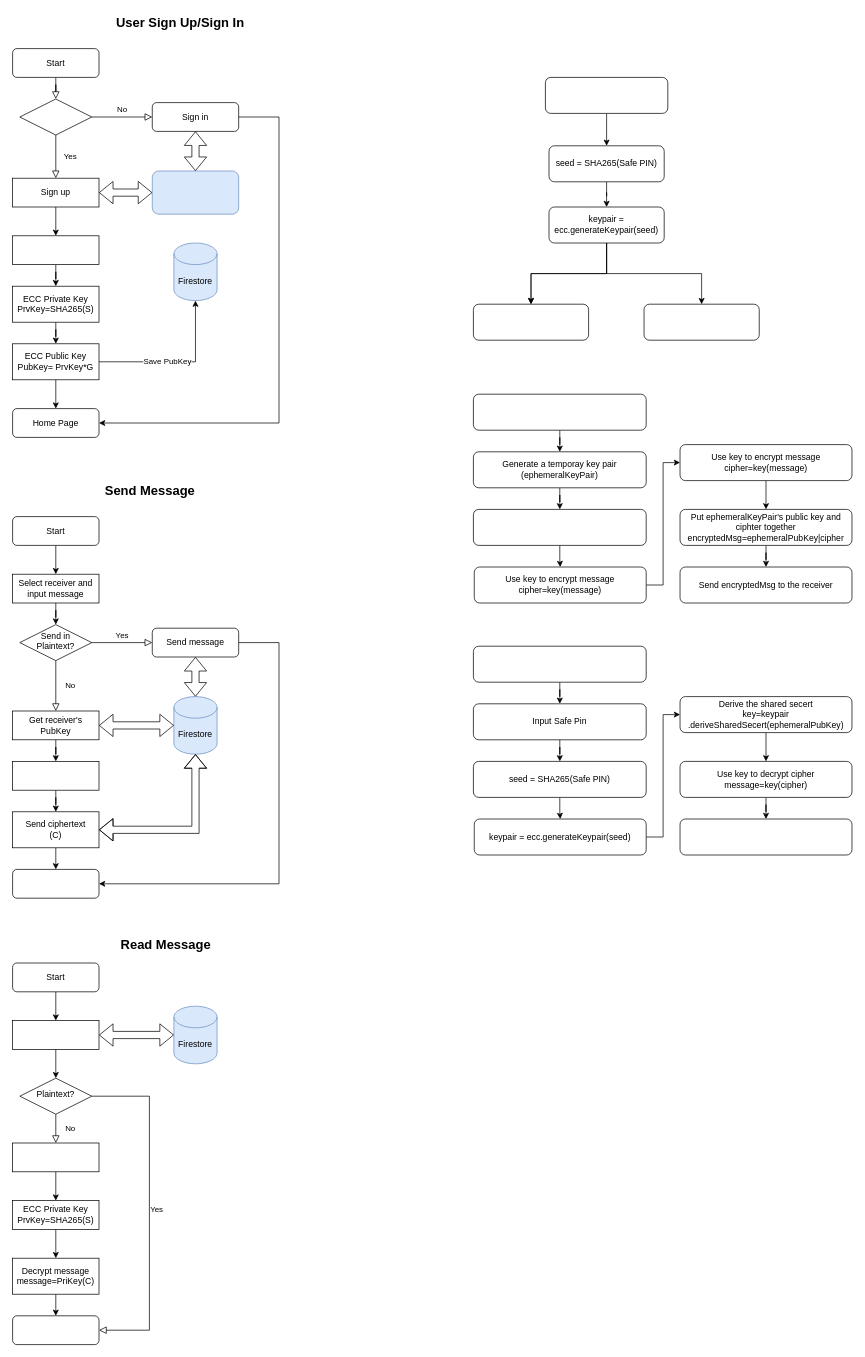
Image size: 865x1357. Some labels were removed from this diagram. Each missing label, with the centre of its shape:
"Derive the shared secert key=ephemeralKeyPair .deriveSharedSecert(pubkey)" belongs at [559,527].
"Display message" belongs at [55,1330].
"Drop and Clear Private Key" belongs at [531,321].
"Encrypt mesage C=PubKey(message)" belongs at [55,775].
"End" belongs at [55,883].
"Extract ephemeralPubKey from encryptedMsg" belongs at [559,663].
"Firebase Authentication" belongs at [195,192].
"Get message List" belongs at [55,1034].
"Get receiver's Public Key (pubkey)" belongs at [559,411].
"Input the safe key (S)" belongs at [55,1157].
"Message in plain text" belongs at [765,836].
"New user?" belongs at [55,116].
"Safe Pin" belongs at [606,95].
"Save Public Key with Contact Information" belongs at [701,321].
"Set a safe key (S)" belongs at [55,250].
